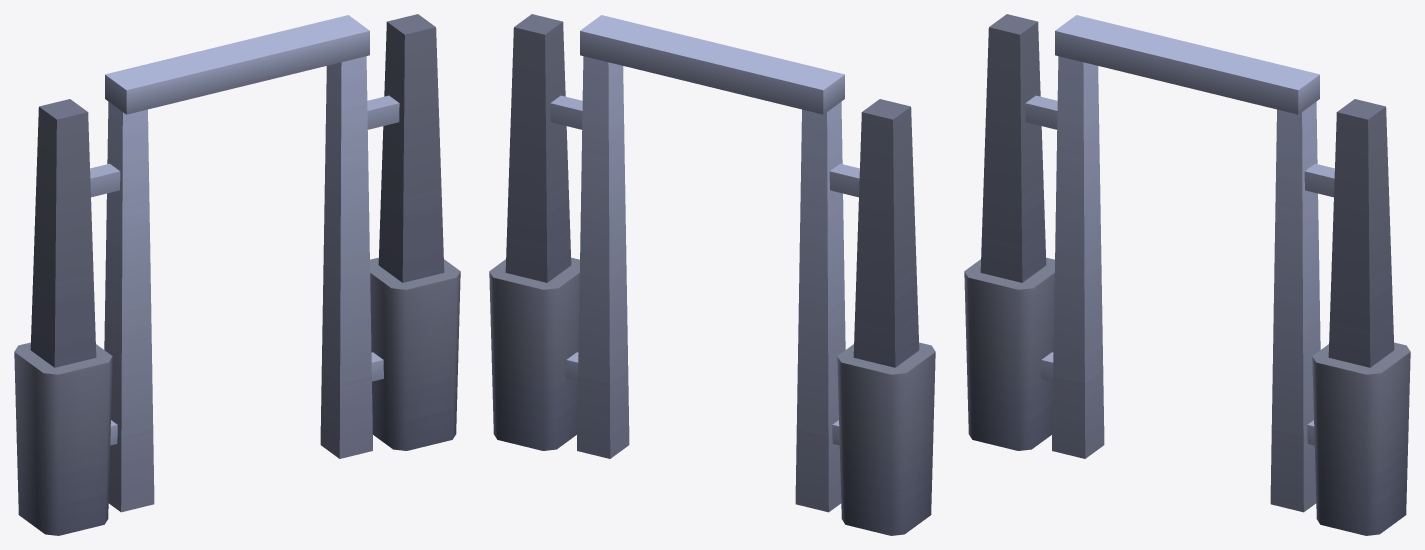
File: structure-metal-doorway.glb
3 views of the same model, side by side, from view 1: azimuth 30°, elevation 25°; view 2: azimuth 150°, elevation 25°; view 3: azimuth 330°, elevation 25° (orthographic).
Visible parts, largest first — view 1: structure-metal-doorway, Group; view 2: structure-metal-doorway, Group; view 3: structure-metal-doorway, Group.
Boxes of the visible parts, box(x1,y1,x2,y2) form: structure-metal-doorway: box(14, 14, 460, 535); Group: box(105, 15, 369, 114); structure-metal-doorway: box(489, 14, 935, 535); Group: box(580, 15, 844, 114); structure-metal-doorway: box(964, 14, 1410, 535); Group: box(1055, 15, 1319, 114).
Size of the model in its own units: 0.5354 by 0.5175 by 0.0889.
1 material, 1 textured.
